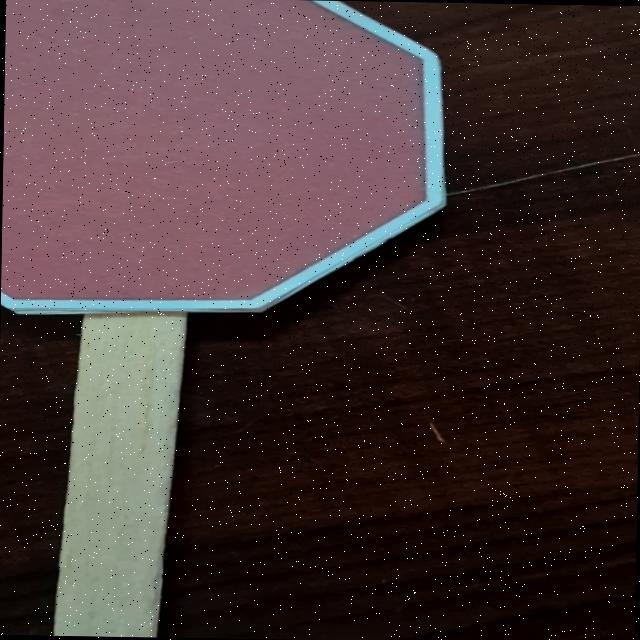Stop: (0, 0, 457, 332)
